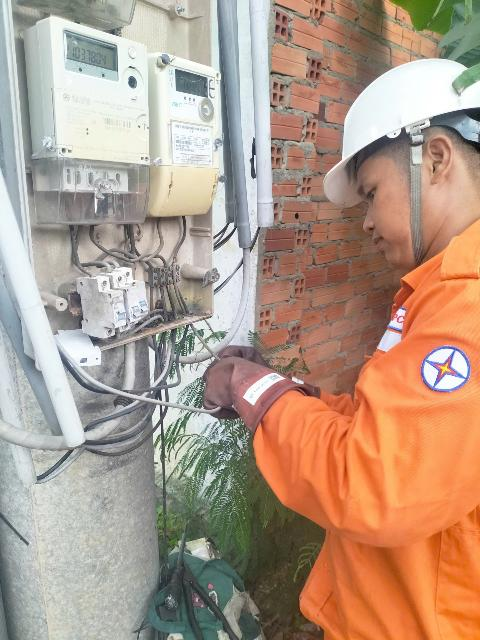gloves: (180, 336, 313, 441)
helmet: (306, 42, 480, 218)
